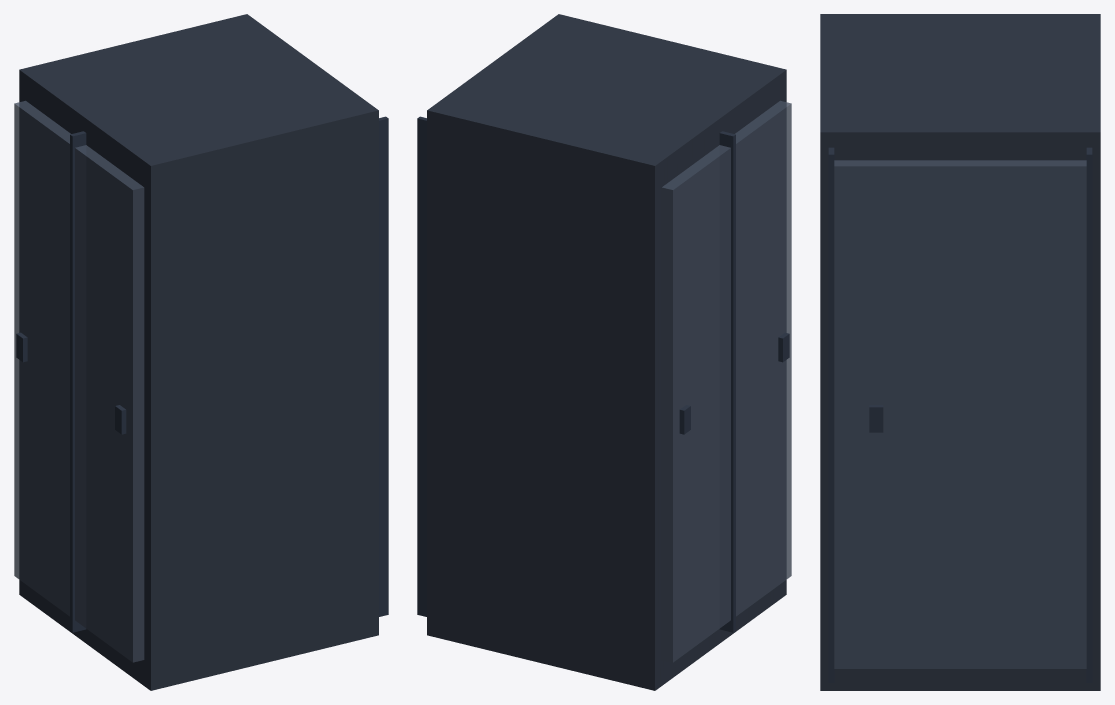
Rendered from rack.glb.
The picture shows the model from 3 angles, left to right: view 1: azimuth 30°, elevation 25°; view 2: azimuth 150°, elevation 25°; view 3: azimuth 270°, elevation 25°; orthographic projection. The views are drawn at different scales.
Visible parts, largest first — view 1: Mesh.001, Mesh.006, Mesh.008, Mesh.010, Mesh.004; view 2: Mesh.001, Mesh.008, Mesh.006, Mesh.010, Mesh.005; view 3: Mesh.001, Mesh.002, Mesh.004, Mesh.005.
Boxes of the visible parts, x1,y1,x2,y2 form: Mesh.001: (19, 14, 378, 690); Mesh.006: (75, 145, 144, 662); Mesh.008: (14, 100, 70, 616); Mesh.010: (70, 131, 86, 632); Mesh.004: (379, 116, 388, 616); Mesh.001: (427, 14, 786, 690); Mesh.008: (661, 145, 730, 662); Mesh.006: (735, 100, 791, 616); Mesh.010: (719, 131, 735, 632); Mesh.005: (417, 116, 426, 616); Mesh.001: (820, 14, 1100, 690); Mesh.002: (834, 160, 1086, 668); Mesh.004: (828, 147, 834, 682); Mesh.005: (1086, 147, 1092, 682).
Size of the model in its own units: 1.14 by 2.2 by 1.
